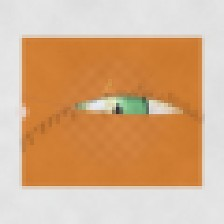corneal_ulcer: (74, 82, 126, 125)
